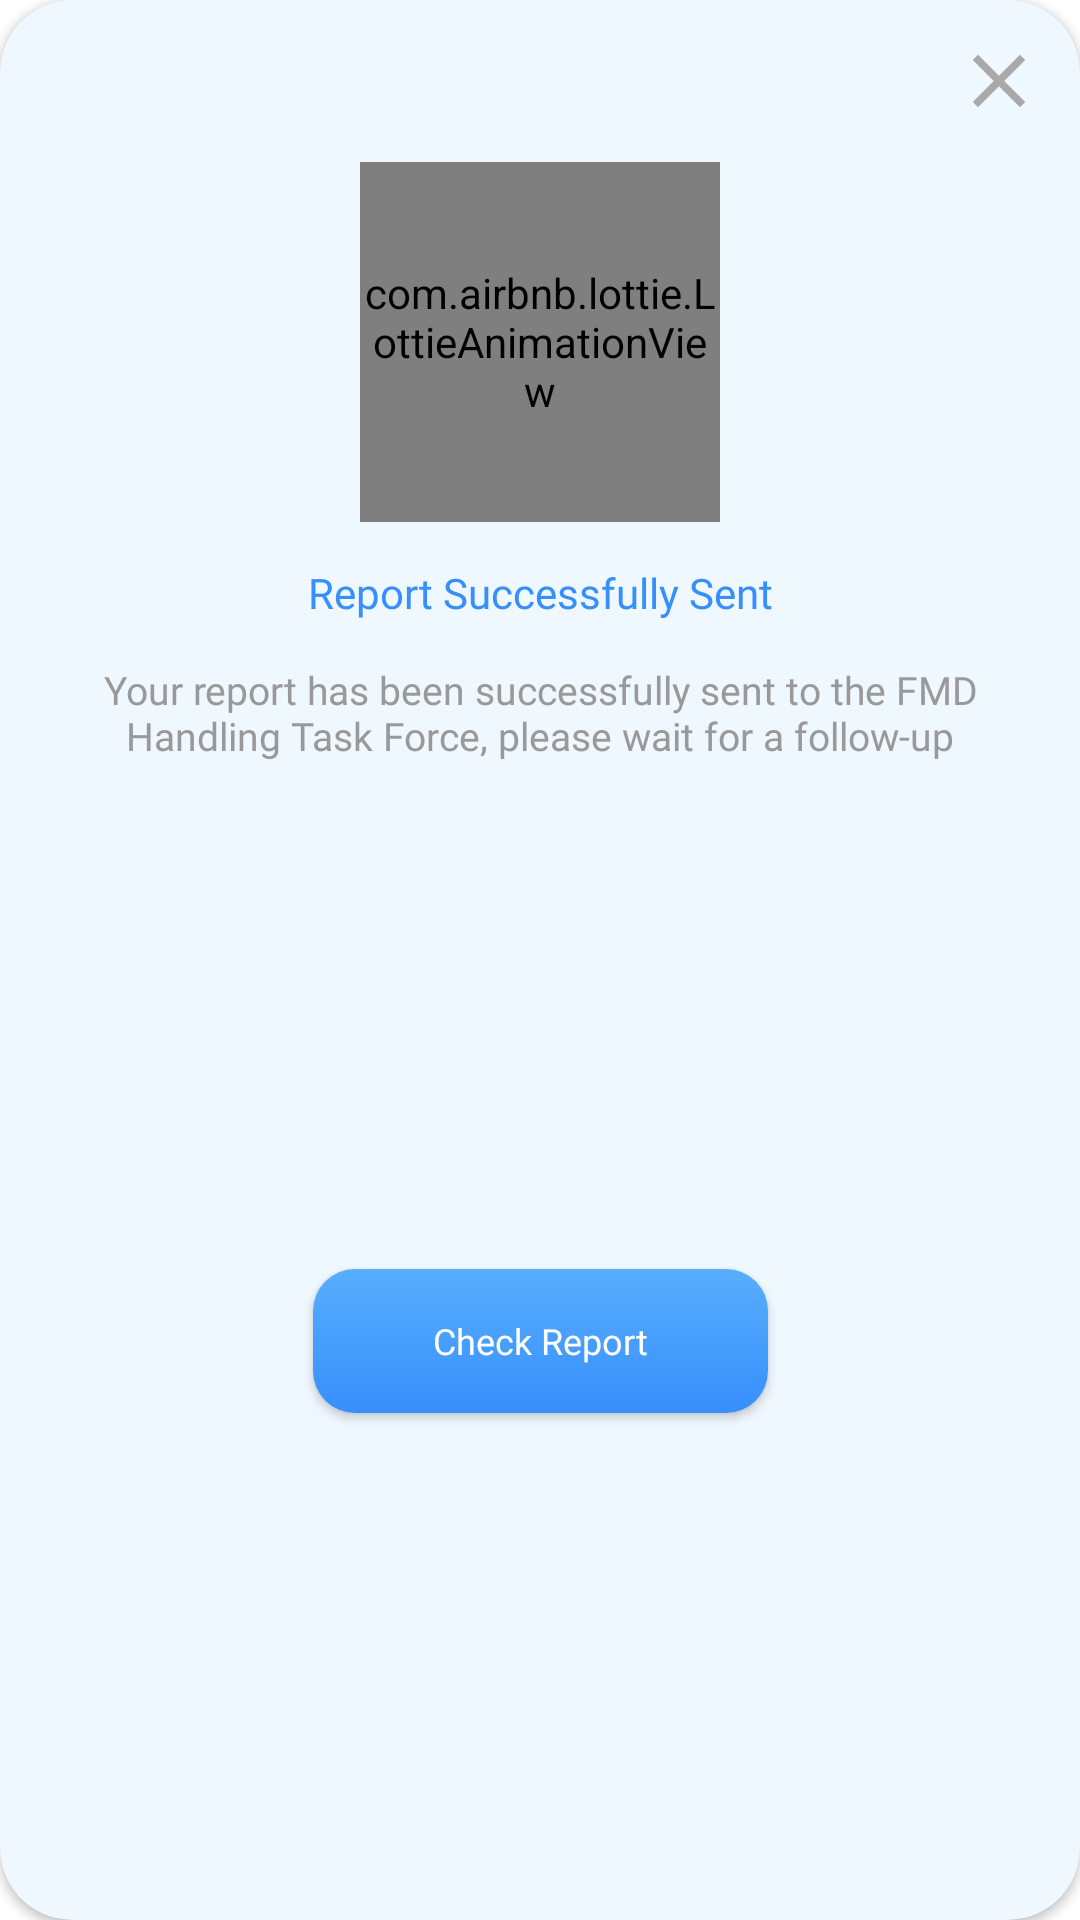

Where icons sit on this 1080x1920 app screen, as bbox(x1, y1, x2, y2):
close: bbox(973, 55, 1025, 107)
